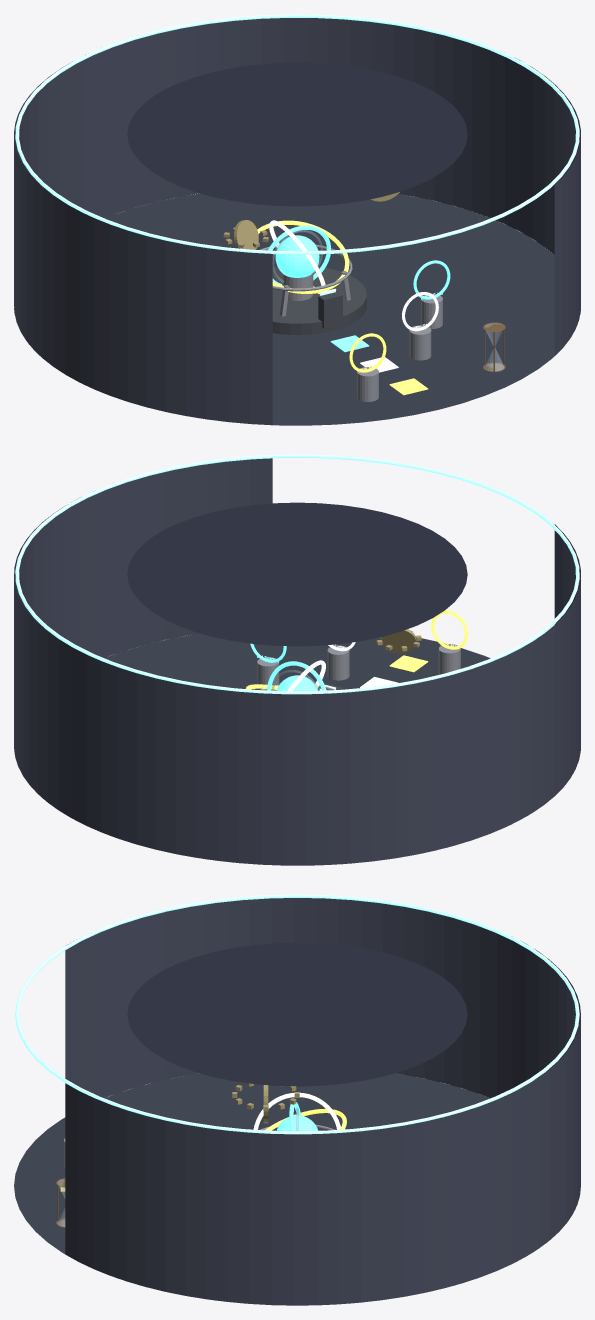
File: time-machine.glb
3 renders of one model, top to bottom at view 1: azimuth 30°, elevation 25°; view 2: azimuth 150°, elevation 25°; view 3: azimuth 270°, elevation 25°, orthographic.
Parts seen in each view (by area): view 1: Tuong_Chamber, San_Chamber, Tran_Chamber, VienSang_Tran, May_DePlatform, May_LoiNangLuong, May_BangDieuKhien_Than, ConMoc_2_Bia, May_VongQuayA_QuaKhu, ConMoc_1_Bia, VatTrangTri_BanhRangNho_Than, ConMoc_3_Bia (+2 smaller); view 2: Tuong_Chamber, Tran_Chamber, San_Chamber, VienSang_Tran, ConMoc_2_Bia, VatTrangTri_BanhRangNho_Than, ConMoc_1_Bia; view 3: Tuong_Chamber, Tran_Chamber, San_Chamber, VienSang_Tran, May_VongQuayB_HienTai.
Boxes of the visible parts, x1=… form: Tuong_Chamber: x1=14, y1=18, x2=580, y2=425; San_Chamber: x1=14, y1=193, x2=580, y2=425; Tran_Chamber: x1=127, y1=62, x2=467, y2=206; VienSang_Tran: x1=15, y1=14, x2=579, y2=254; May_DePlatform: x1=272, y1=266, x2=366, y2=334; May_LoiNangLuong: x1=275, y1=235, x2=319, y2=277; May_BangDieuKhien_Than: x1=318, y1=291, x2=342, y2=328; ConMoc_2_Bia: x1=409, y1=325, x2=431, y2=360; May_VongQuayA_QuaKhu: x1=257, y1=220, x2=349, y2=293; ConMoc_1_Bia: x1=357, y1=367, x2=378, y2=401; VatTrangTri_BanhRangNho_Than: x1=234, y1=220, x2=258, y2=249; ConMoc_3_Bia: x1=421, y1=294, x2=442, y2=328; Tuong_Chamber: x1=14, y1=458, x2=580, y2=865; Tran_Chamber: x1=127, y1=502, x2=467, y2=646; San_Chamber: x1=42, y1=633, x2=573, y2=865; VienSang_Tran: x1=15, y1=454, x2=579, y2=694; ConMoc_2_Bia: x1=327, y1=645, x2=349, y2=680; VatTrangTri_BanhRangNho_Than: x1=382, y1=629, x2=416, y2=653; ConMoc_1_Bia: x1=438, y1=644, x2=460, y2=674; Tuong_Chamber: x1=65, y1=898, x2=580, y2=1305; Tran_Chamber: x1=127, y1=942, x2=467, y2=1086; San_Chamber: x1=14, y1=1073, x2=575, y2=1303; VienSang_Tran: x1=15, y1=894, x2=579, y2=1134; May_VongQuayB_HienTai: x1=253, y1=1092, x2=340, y2=1129.
Size of the model in its own units: 18 by 6.06 by 18.
